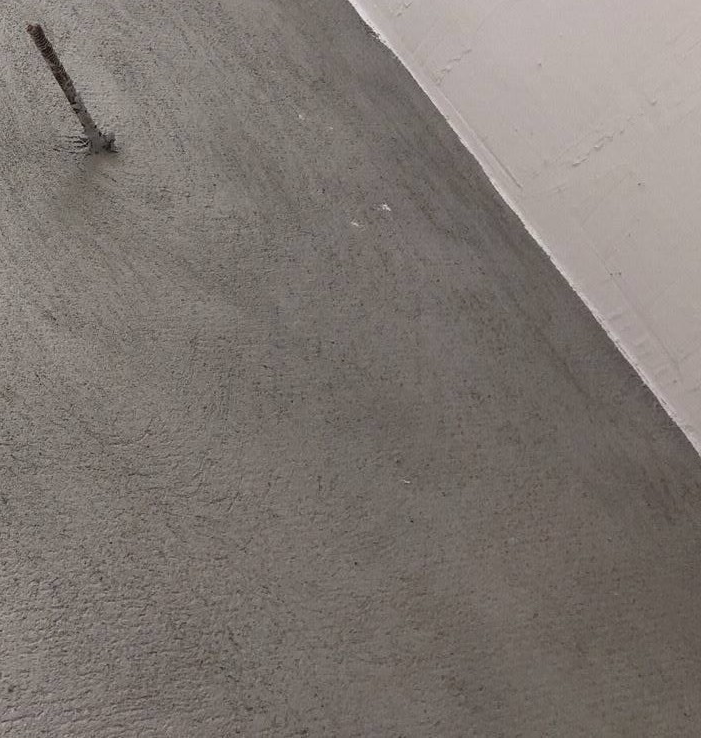Exposed reinforcement: (25, 22, 107, 153)
